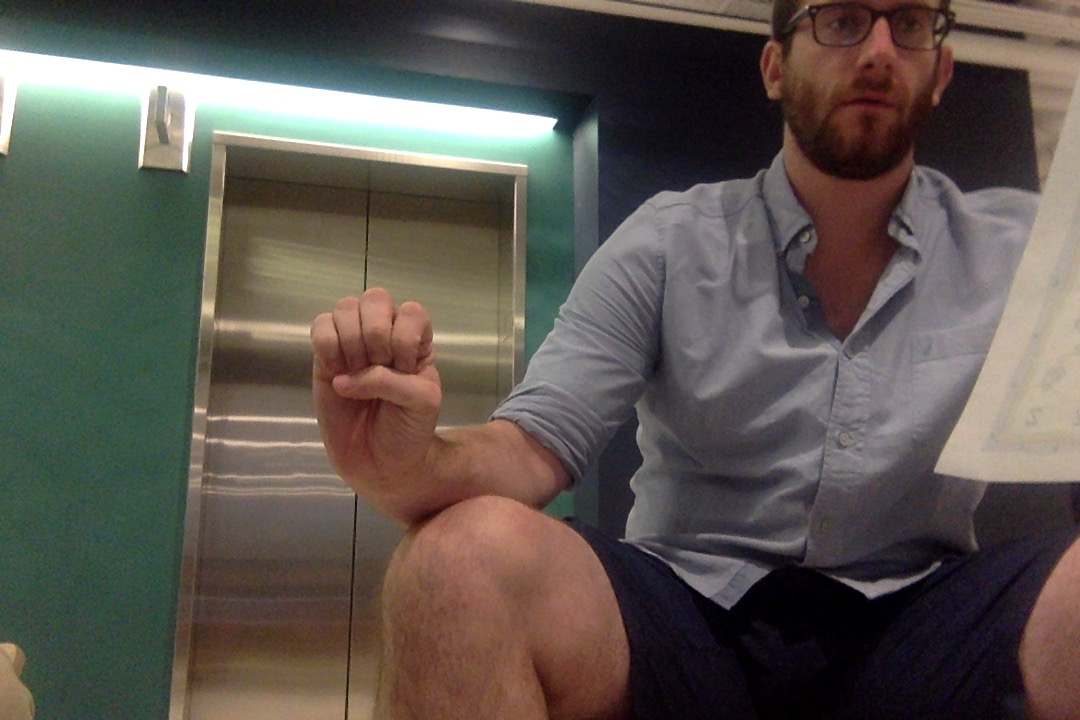e: (305, 280, 446, 475)
